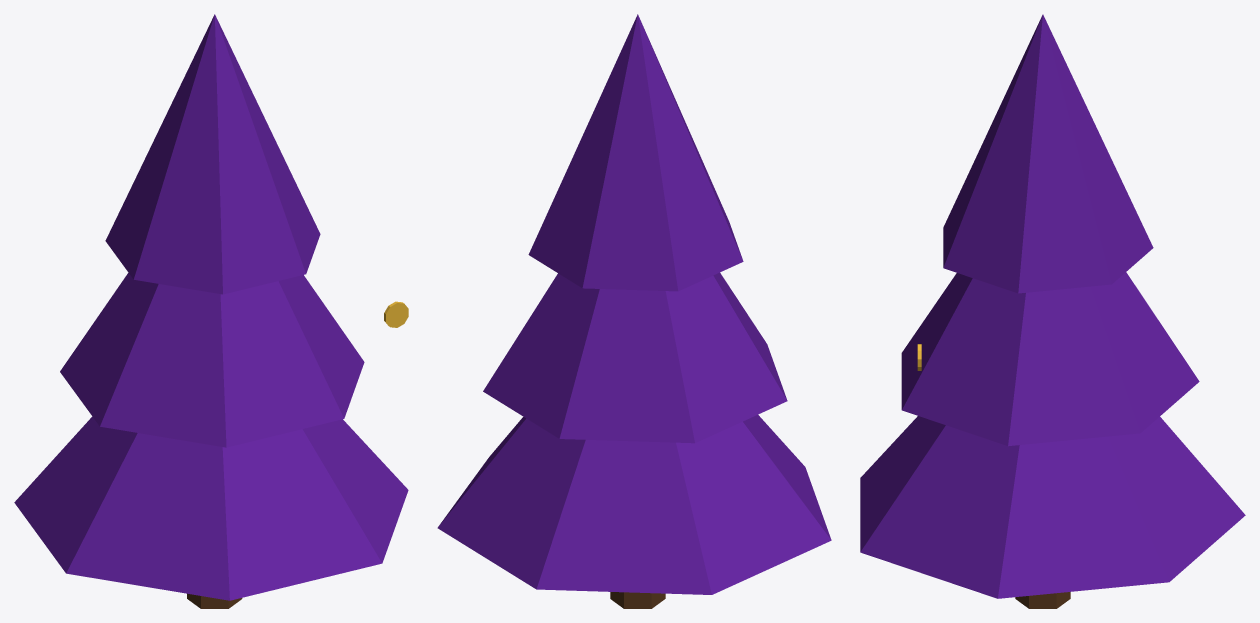
Rendered from Prop_OR_LedgerTree_06.glb.
The picture shows the model from 3 angles, left to right: view 1: azimuth 30°, elevation 25°; view 2: azimuth 150°, elevation 25°; view 3: azimuth 270°, elevation 25°; orthographic projection.
Parts seen in each view (by area): view 1: Prop_OR_LedgerTree_06; view 2: Prop_OR_LedgerTree_06; view 3: Prop_OR_LedgerTree_06.
Part boxes in pixels (x1,y1,x2,y2): Prop_OR_LedgerTree_06: (14,14,408,608); Prop_OR_LedgerTree_06: (437,14,831,608); Prop_OR_LedgerTree_06: (860,14,1245,608).
Size of the model in its own units: 2.14 by 3.5 by 2.09.
